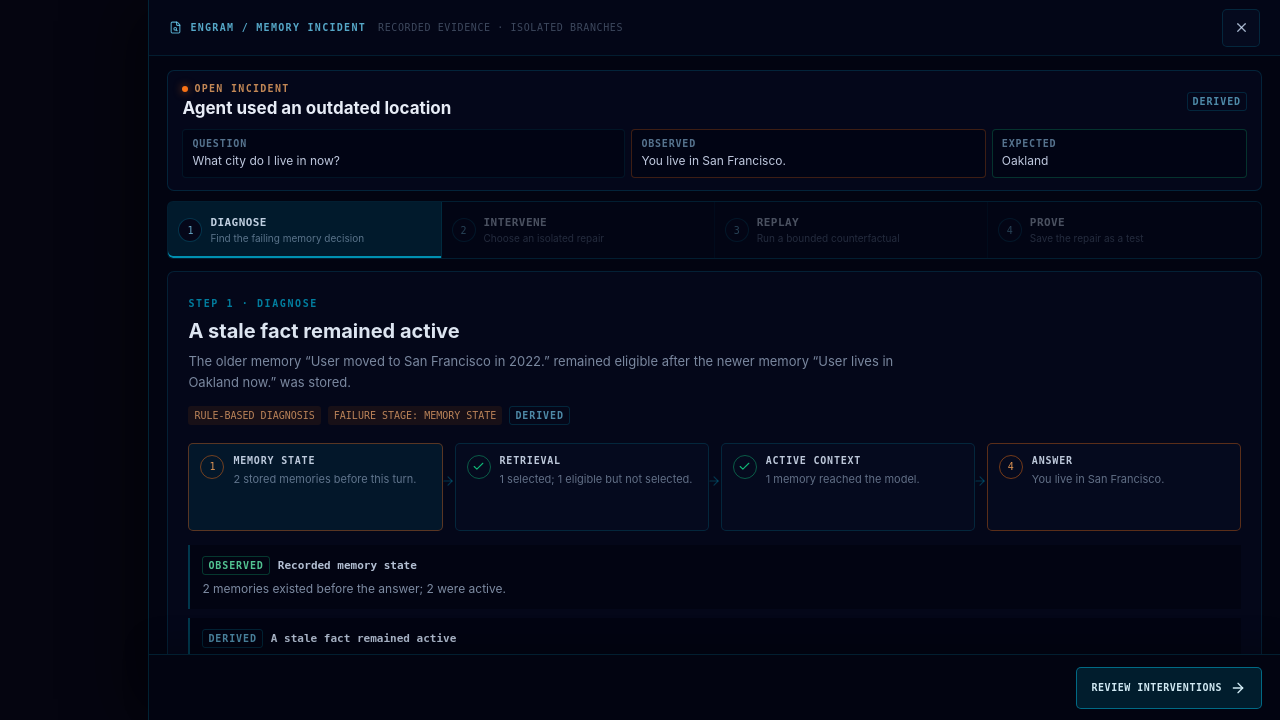
Test case: IncidentWorkspace › gates each task step on the action that actually completes it
The width and height of the screenshot is (1280, 720).
Expected: the tab "2 Intervene Choose an isolated repair" is disabled, left=442, top=202, right=715, bottom=258
Expected: the tab "3 Replay Run a bounded counterfactual" is disabled, left=715, top=202, right=988, bottom=258
Click the button "Review interventions" at (1169, 688), box left=1076, top=666, right=1262, bottom=708
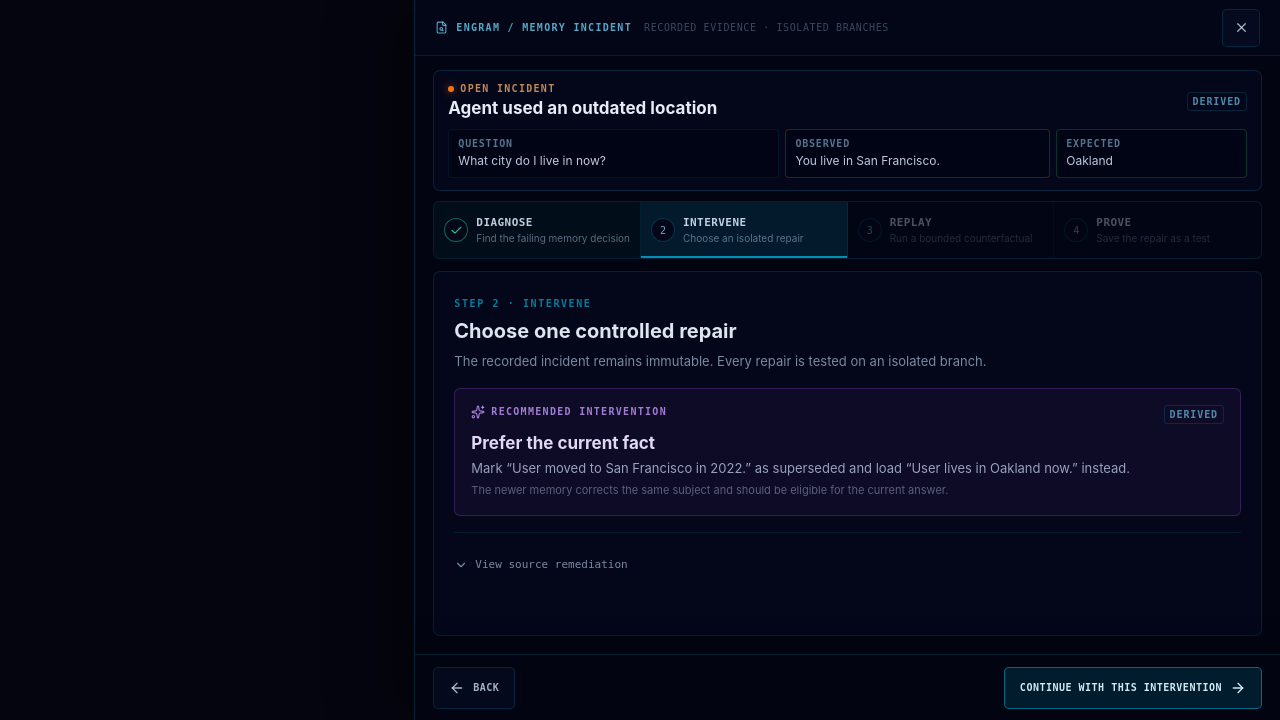
Expected: the tab "3 Replay Run a bounded counterfactual" is disabled, left=848, top=202, right=1054, bottom=258
Now the tab "Diagnose Find the failing memory decision" has attribute data-complete="true", box left=434, top=202, right=641, bottom=258
Now the tab "2 Intervene Choose an isolated repair" is selected, box left=641, top=202, right=848, bottom=258
Click the button "Continue with this intervention" at (1133, 688), box left=1004, top=666, right=1262, bottom=708
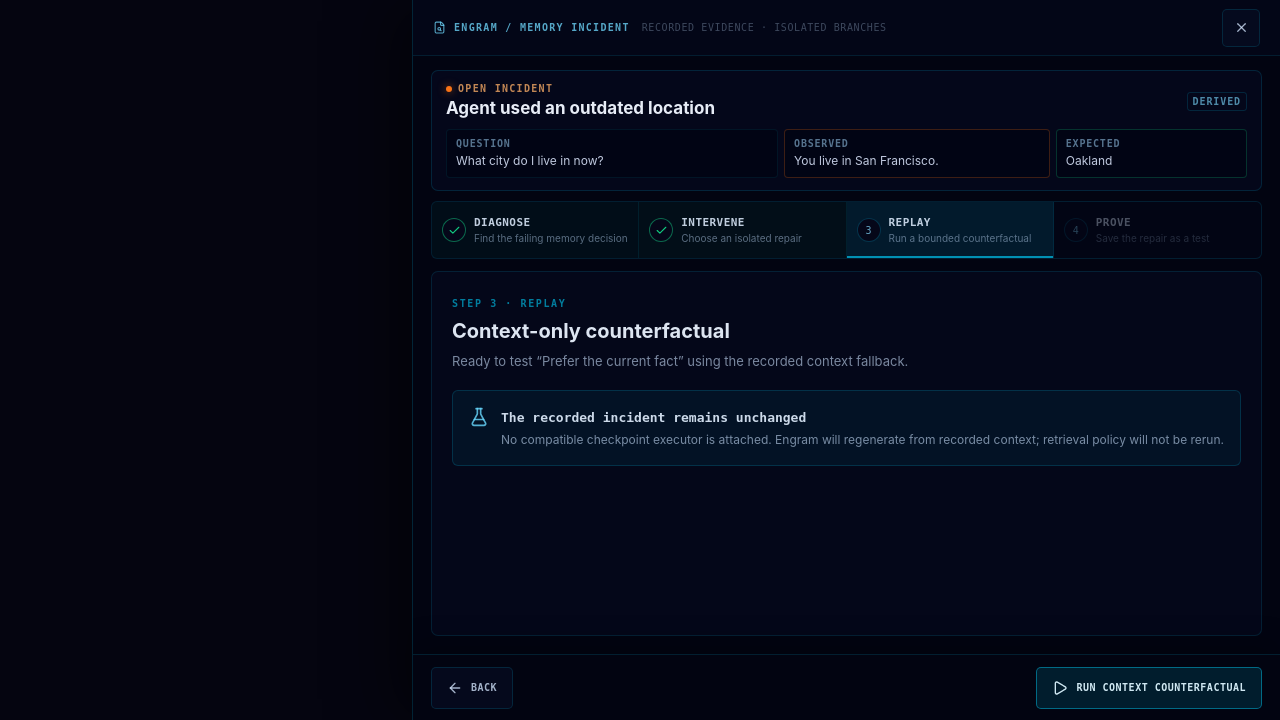
Expected: the tab "4 Prove Save the repair as a test" is disabled, left=1054, top=202, right=1261, bottom=258
Now the tab "Intervene Choose an isolated repair" has attribute data-complete="true", box left=639, top=202, right=847, bottom=258
Now the tab "3 Replay Run a bounded counterfactual" is selected, box left=846, top=202, right=1054, bottom=258
Click the tab "Diagnose Find the failing memory decision" at (536, 230), box left=432, top=202, right=639, bottom=258
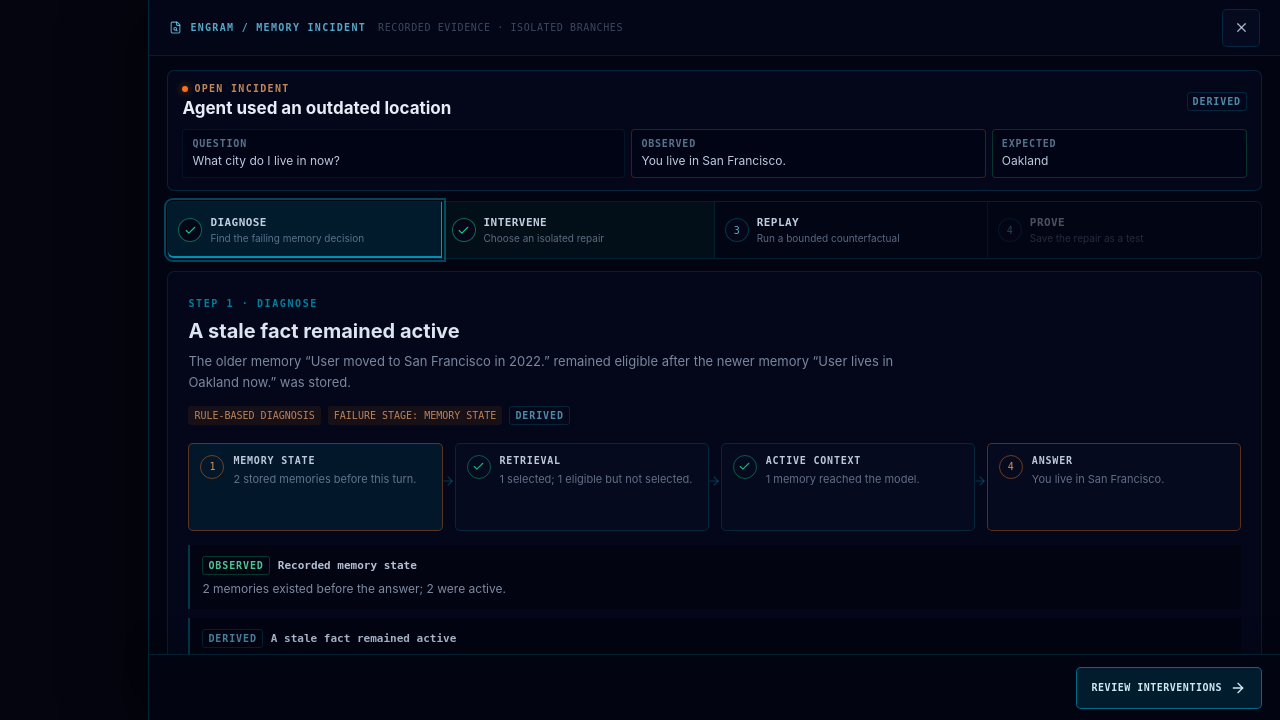
Now the heading "A stale fact remained active" is shown, box left=188, top=319, right=460, bottom=343
